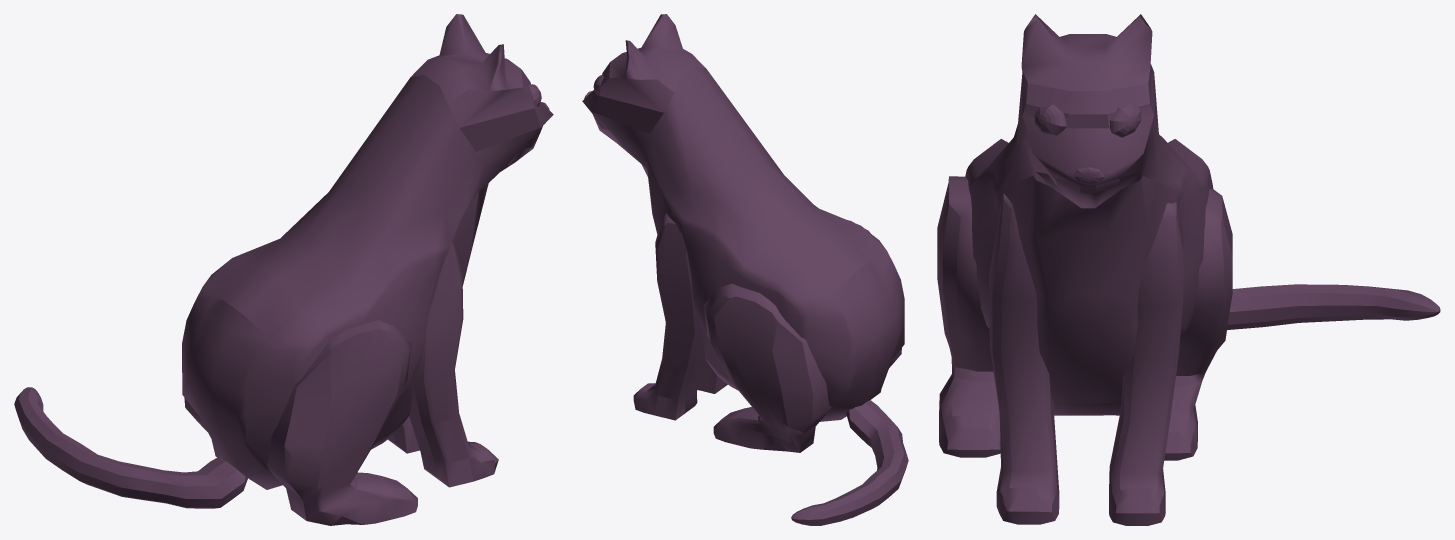
File: catt.fbx
The picture shows the model from 3 angles, left to right: view 1: azimuth 30°, elevation 25°; view 2: azimuth 150°, elevation 25°; view 3: azimuth 270°, elevation 25°; orthographic projection. The views are drawn at different scales.
Parts seen in each view (by area): view 1: pCube3, pCube7, pCube5, pSphere1, pCube2; view 2: pCube3, pCube6, pCube2, pSphere1, pCube5; view 3: pCube3, pCube5, pCube2, pCube7, pCube6, pSphere1, pSphere2, pSphere3.
Boxes of the visible parts, left/top/right/bottom form: pCube3: left=182, top=14, right=553, bottom=489; pCube7: left=266, top=320, right=417, bottom=525; pCube5: left=409, top=242, right=498, bottom=487; pSphere1: left=14, top=387, right=247, bottom=508; pCube2: left=388, top=416, right=419, bottom=453; pCube3: left=582, top=14, right=904, bottom=421; pCube6: left=703, top=283, right=831, bottom=452; pCube2: left=633, top=213, right=705, bottom=420; pSphere1: left=791, top=400, right=908, bottom=525; pCube5: left=697, top=360, right=727, bottom=393; pCube3: left=965, top=14, right=1213, bottom=415; pCube5: left=989, top=193, right=1059, bottom=524; pCube2: left=1109, top=202, right=1183, bottom=525; pCube7: left=937, top=176, right=1000, bottom=457; pCube6: left=1164, top=188, right=1232, bottom=460; pSphere1: left=1227, top=284, right=1440, bottom=329; pSphere2: left=1109, top=102, right=1141, bottom=137; pSphere3: left=1034, top=104, right=1066, bottom=135.
Size of the model in its own units: 6.47 by 6.11 by 5.38.
